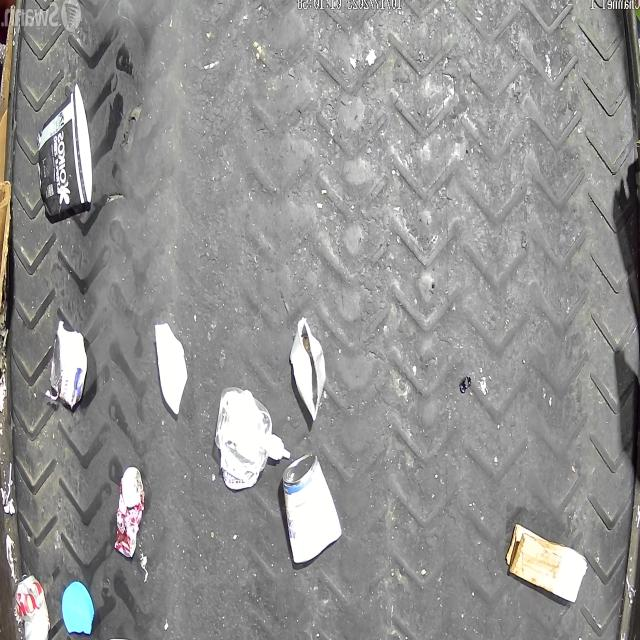can: (282, 452, 342, 562), (290, 317, 326, 420), (113, 466, 145, 558), (50, 328, 86, 408), (12, 572, 49, 640)
